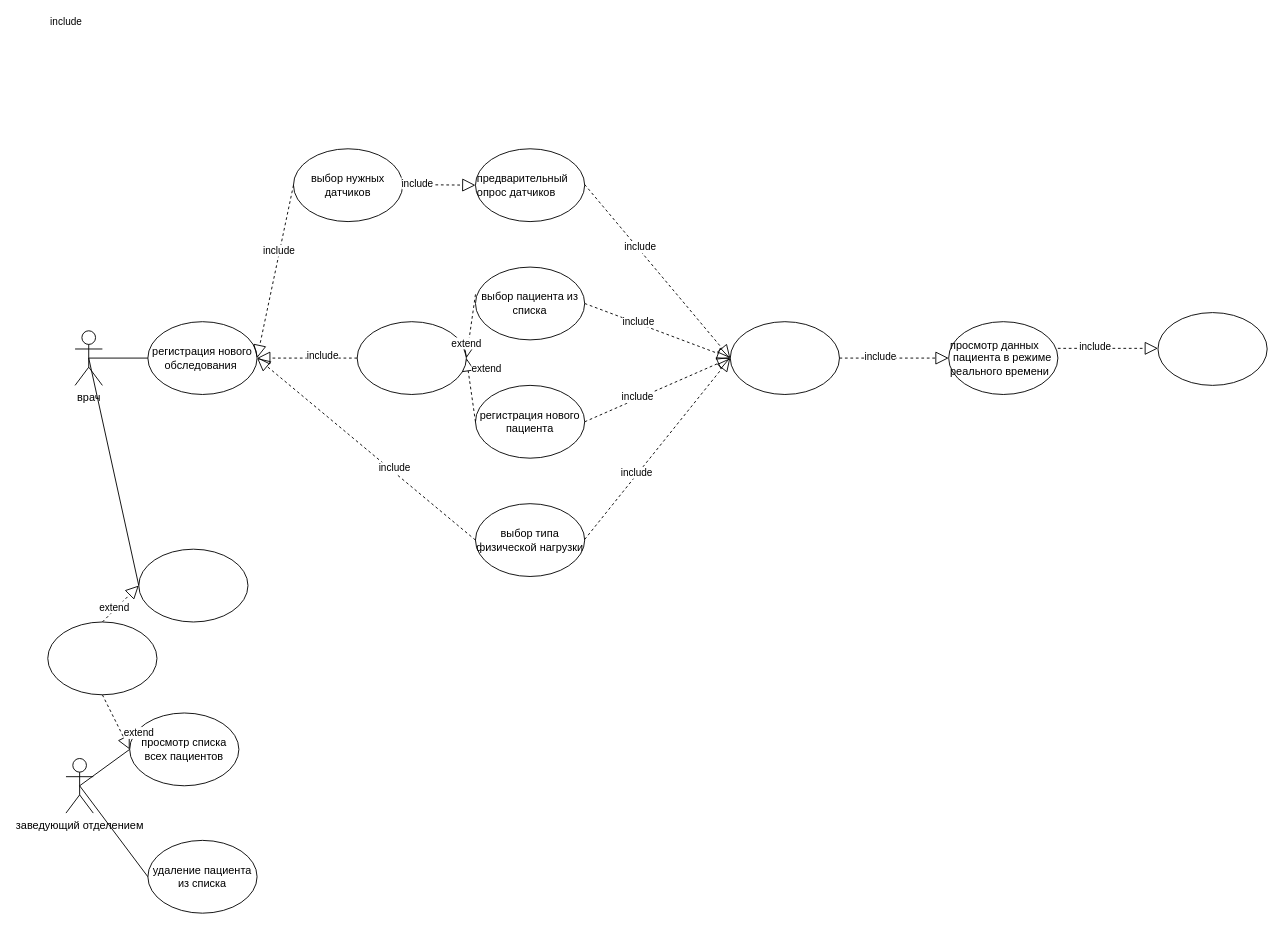
Image size: 1283x929. Some labels were removed from this diagram. The shapes that lost their labels are listed below. From the top down, each one's centre as x and y in pixels, then its label:
At (x=411, y=357): "выбор пациента".
At (x=784, y=357): "старт обследования".
At (x=1212, y=348): "завершение обследование".
At (x=193, y=585): "просмотр списка своих пациентов".
At (x=102, y=658): "просмотр списка пациентов".
